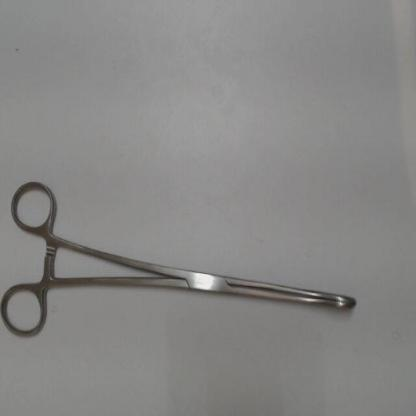Sponge Forceps: (0, 174, 367, 349)
